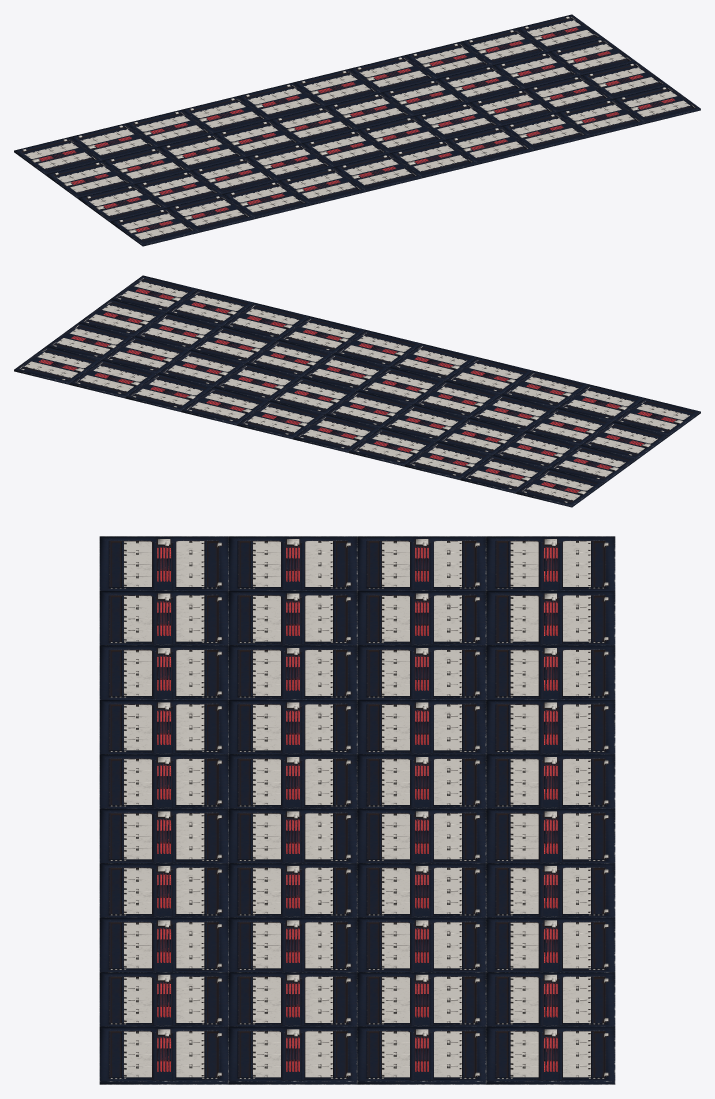
The model's file is sci_fi_floor_panel01_medium_4x10.glb.
The picture shows the model from 3 angles, top to bottom: view 1: azimuth 30°, elevation 25°; view 2: azimuth 150°, elevation 25°; view 3: azimuth 270°, elevation 25°; orthographic projection. The views are drawn at different scales.
Visible parts, largest first — view 1: SciFi_Floor_Panel01_low; view 2: SciFi_Floor_Panel01_low; view 3: SciFi_Floor_Panel01_low.
Boxes of the visible parts, x1,y1,x2,y2 form: SciFi_Floor_Panel01_low: [14, 14, 700, 246]; SciFi_Floor_Panel01_low: [14, 275, 700, 507]; SciFi_Floor_Panel01_low: [99, 536, 615, 1084].
Bounding box in the file's own units: 20 × 0.0806 × 8.
Materials: 1 (1 with a texture image).
